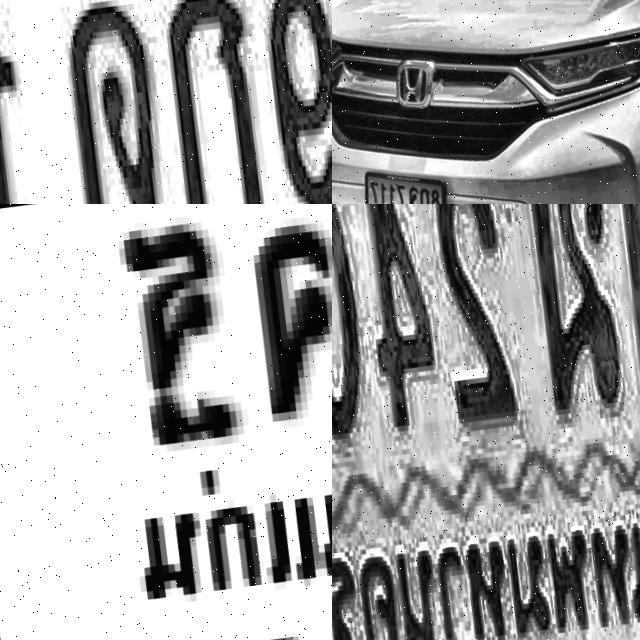license-plate: (0, 204, 332, 640), (332, 204, 640, 640), (0, 0, 332, 204), (353, 156, 457, 204)
